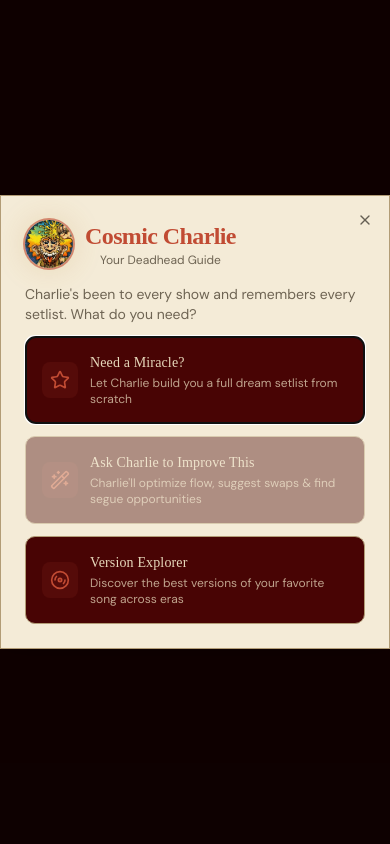
Test: Save as Listening Guide › is disabled while the first/last-played lookups are still running
Click the button "Version Explorer".
click(195, 580)  # box [25,536,365,624]
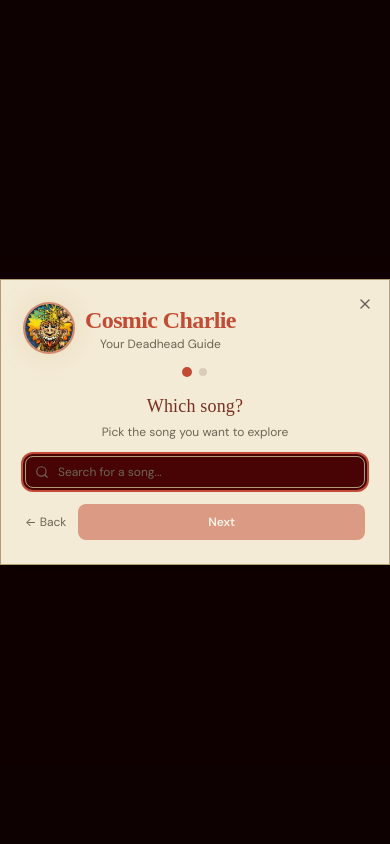
Type "Ramble" into the field with placeholder "Search for a song...".
click(195, 472); type("Ramble")  # box [25,456,365,488]
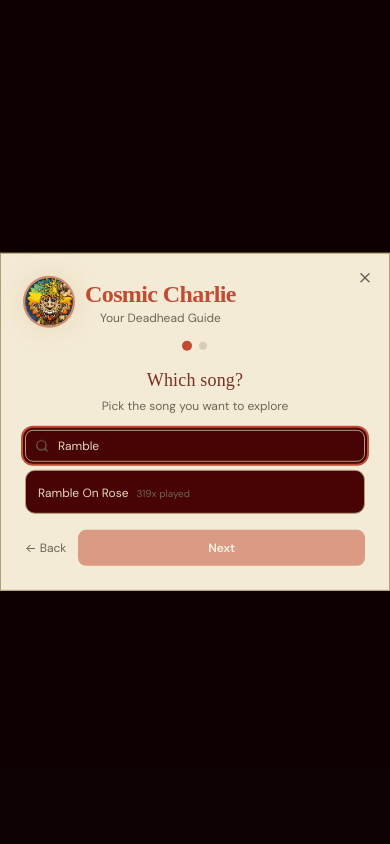
Click the text "Ramble On Rose".
click(83, 493)  # box [38,485,128,501]
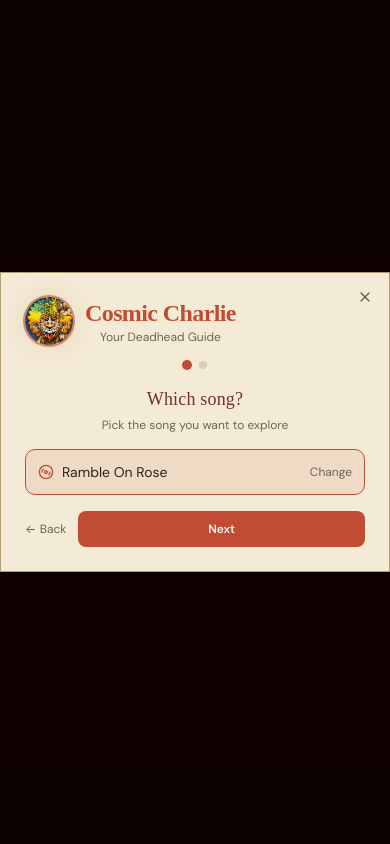
Click the button "Next".
click(222, 529)  # box [78,511,365,547]
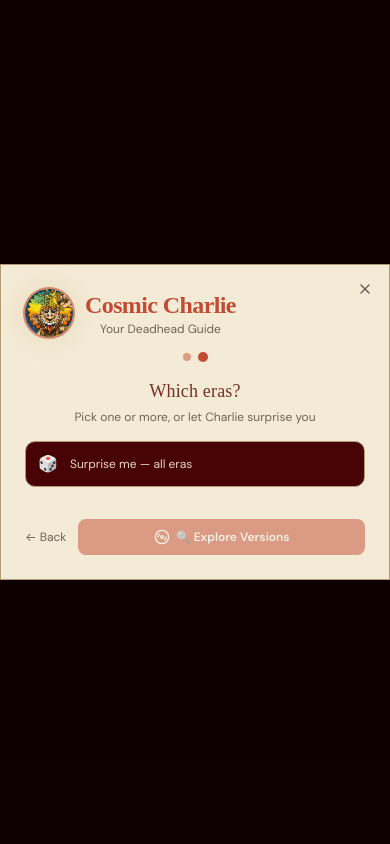
Click the text "Surprise me — all eras".
click(131, 464)  # box [70,456,192,472]
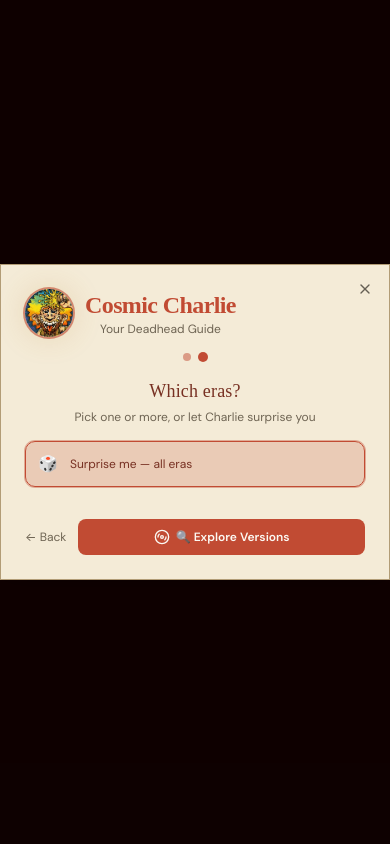
Click the button "🔍 Explore Versions".
click(222, 537)  # box [78,519,365,555]
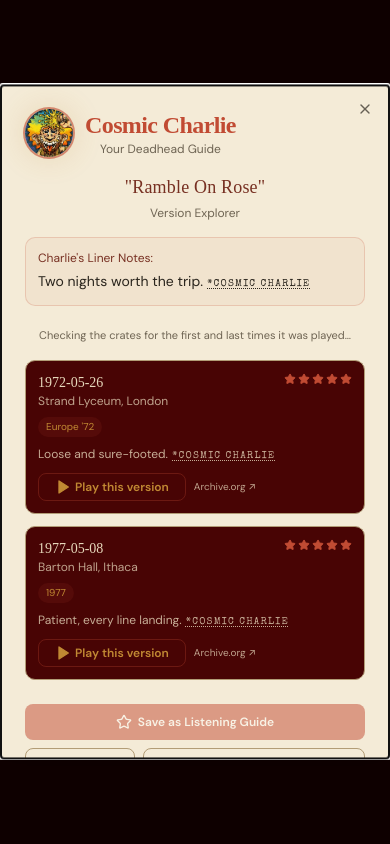
Now the text "Checking the crates for the first and last times" is shown, box [39,328,351,342]
Now the button "Save as Listening Guide" is disabled, box [25,704,365,740]
